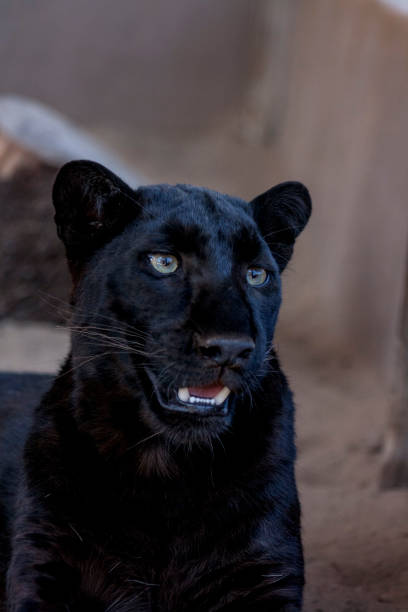panther: (20, 136, 349, 531)
